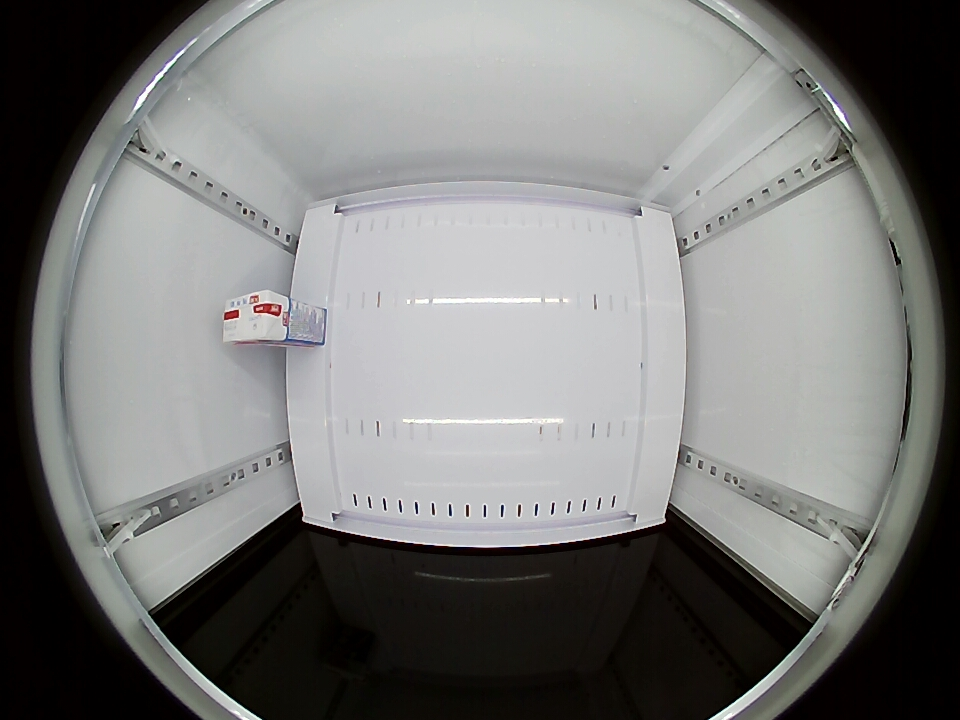niunai: (222, 290, 291, 346)
